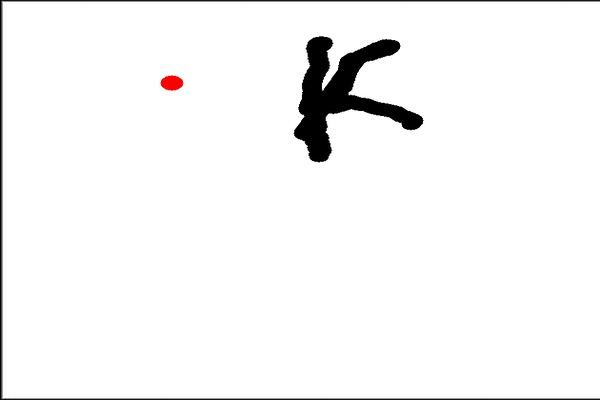K: (288, 30, 427, 166)
